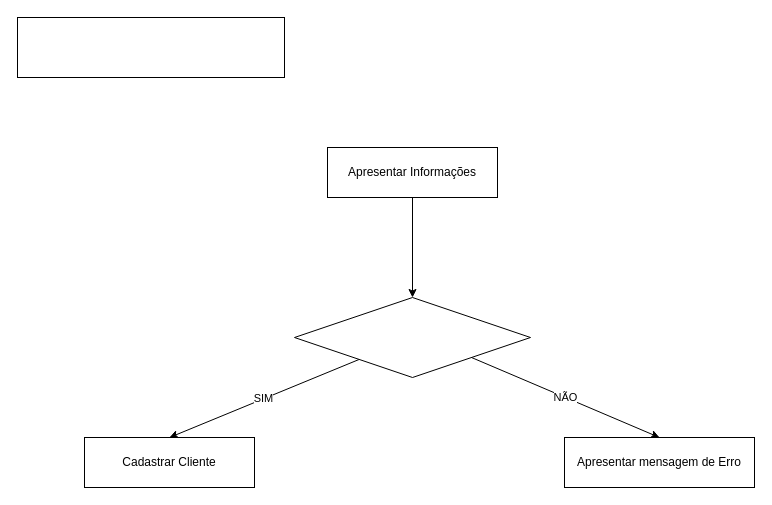
This 772x505 diagram has some shape labels left out. The centre of each missing label's shape, as x and y in pixels:
"Como cadastrar um cliente?" belongs at pixel 150 47.
"Informações estão certas?" belongs at pixel 412 337.
